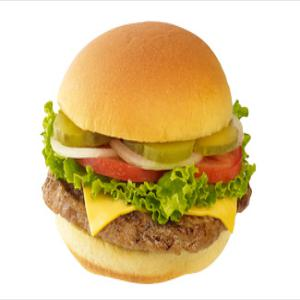cheeseburger_475cal: (39, 17, 254, 286)
